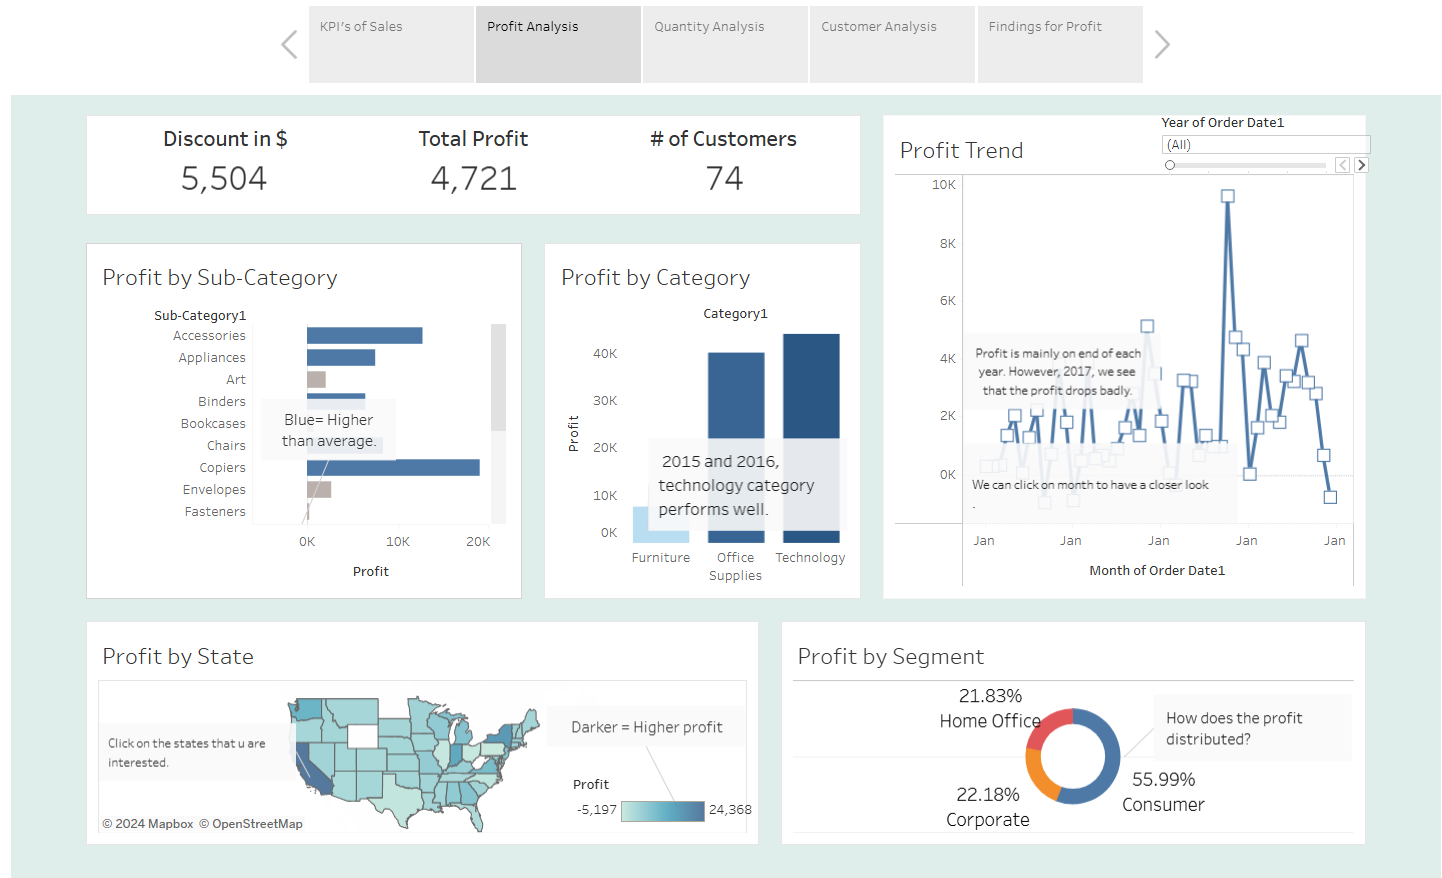

The dashboard page shown, as its layout file describes it:
{"tool":"tableau","page":{"name":"2Profit","canvas":[1200,700],"ordinal":1},"visuals":[{"type":"worksheet","title":"KPIs (2)","mark":"Automatic","box":[8,8,725,111]},{"type":"worksheet","title":"Profit Trend","mark":"Automatic","rows":["Profit","Profit"],"cols":["Order Date"],"box":[733,8,459,460.2]},{"type":"filter","title":"Profit Trend","param":"[federated.1har0ix0gwi5d918z7zvp0w6rfz3].[yr:Order Date:ok]","box":[996,15.8,192,58.6]},{"type":"worksheet","title":"Profit by Sub-Category","mark":"Automatic","rows":["Sub-Category"],"cols":["Profit"],"box":[8,124,417,344.2]},{"type":"worksheet","title":"Profit by Category","mark":"Automatic","rows":["Profit"],"cols":["Category"],"box":[425,124,308,344.2]},{"type":"worksheet","title":"Profit by State","mark":"Automatic","box":[8,468.2,632,223.8]},{"type":"worksheet","title":"Profit by Segment","mark":"Pie","rows":["Calculation_766456409344909313","Calculation_766456409344909313"],"box":[640,468.2,552,223.8]},{"type":"legend","title":"Profit by State","param":"[federated.1har0ix0gwi5d918z7zvp0w6rfz3].[sum:Profit:qk]","box":[461,618,168,66]}]}

Visuals, with their boxes on the page's 1200x700 design canvas (x1, y1, x2, y2). These are canvas units, not pixel positions in the 1442x878 screenshot, which may show the page scaled, cropped or inside an application window:
"KPIs (2)" worksheet: 8:8:733:119
"Profit Trend" worksheet: 733:8:1192:468
"Profit Trend" filter: 996:16:1188:74
"Profit by Sub-Category" worksheet: 8:124:425:468
"Profit by Category" worksheet: 425:124:733:468
"Profit by State" worksheet: 8:468:640:692
"Profit by Segment" worksheet (Pie marks): 640:468:1192:692
"Profit by State" legend: 461:618:629:684
